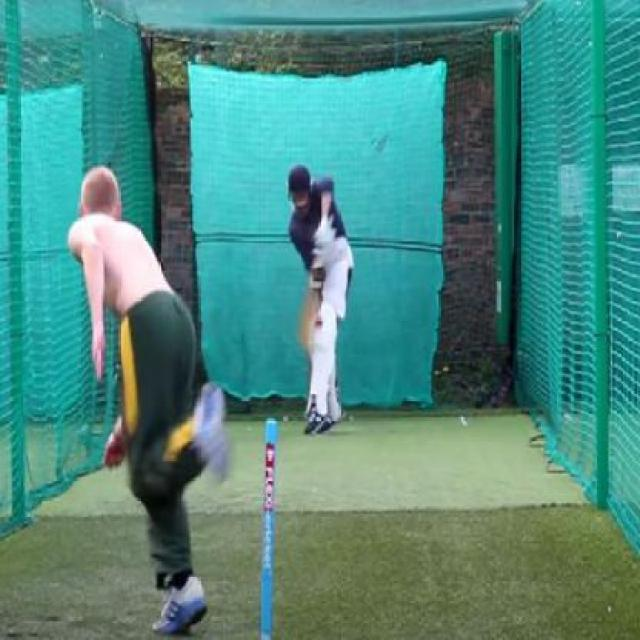ball: (309, 312, 326, 334)
